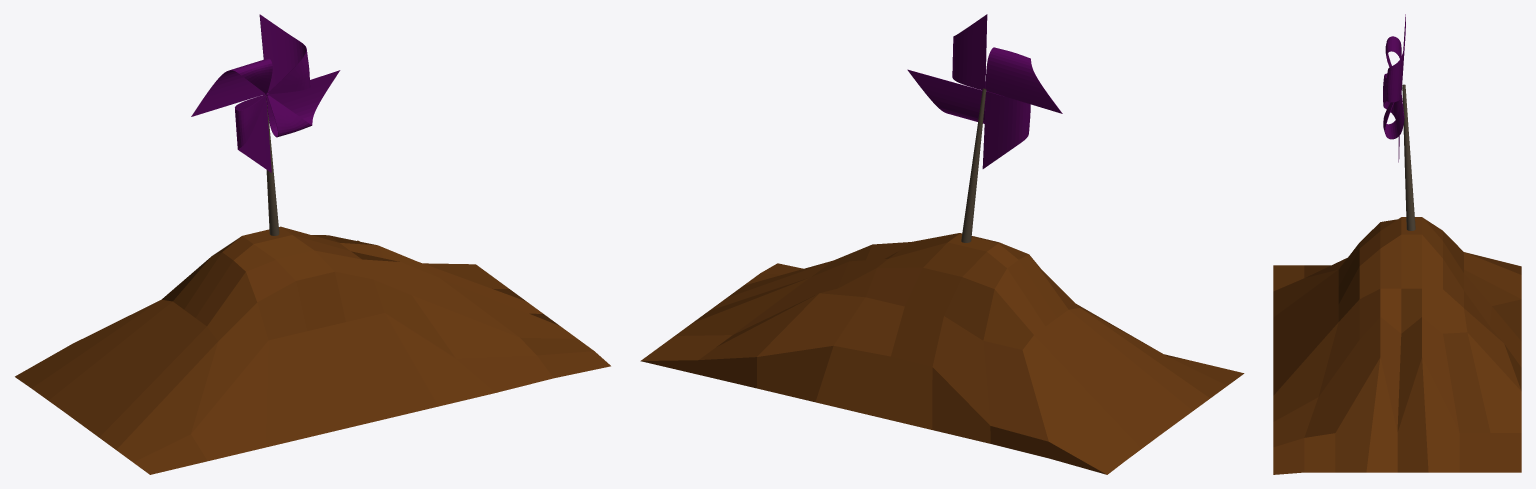
The model's file is PinWheelWithShadow.fbx.
The picture shows the model from 3 angles, left to right: view 1: azimuth 30°, elevation 25°; view 2: azimuth 150°, elevation 25°; view 3: azimuth 270°, elevation 25°; orthographic projection. The views are drawn at different scales.
Parts seen in each view (by area): view 1: Ground, Paper, Stick; view 2: Ground, Paper, Stick; view 3: Ground, Paper, Stick.
Boxes of the visible parts, bbox=[...] form: Ground: bbox=[15, 226, 610, 474]; Paper: bbox=[191, 14, 340, 172]; Stick: bbox=[266, 97, 279, 235]; Ground: bbox=[640, 233, 1244, 474]; Paper: bbox=[907, 14, 1062, 168]; Stick: bbox=[961, 88, 986, 242]; Ground: bbox=[1273, 217, 1521, 474]; Paper: bbox=[1383, 14, 1405, 162]; Stick: bbox=[1402, 84, 1415, 230].
Bounding box in the file's own units: 1216 × 925 × 619.
